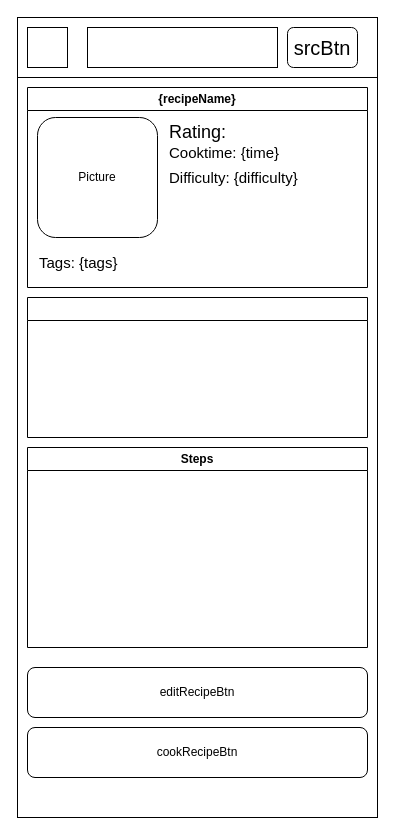
The diagram is 395 pixels wide and 835 high, and some of its shapes have lost their labels. Each missing label, with the centre of its shape:
"Ingredients" belongs at (x=197, y=367).
"Nav" belongs at (x=47, y=47).
"Search Field" belongs at (x=182, y=47).
